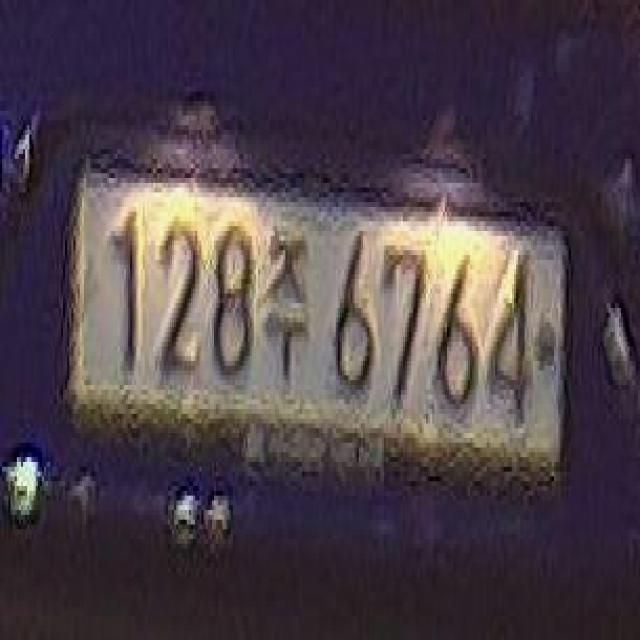illegal_plate: (70, 157, 562, 498)
